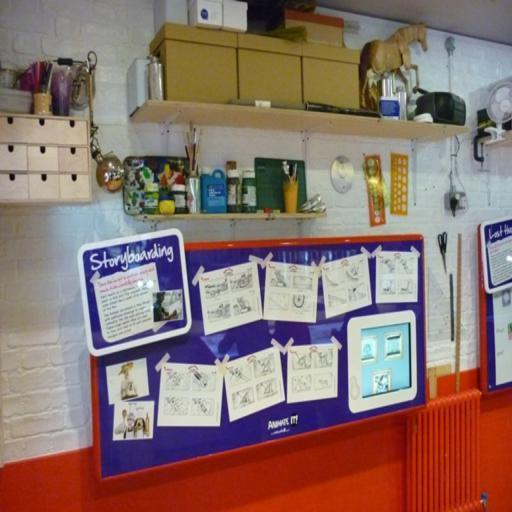horse: (358, 19, 428, 109)
